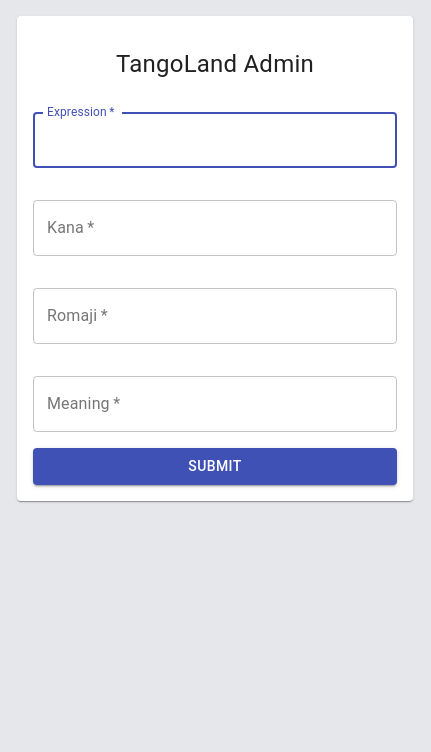
App › success after submit
Type "test5.1" into the field labelled "Expression *" at [215, 140], box [33,112,397,168]
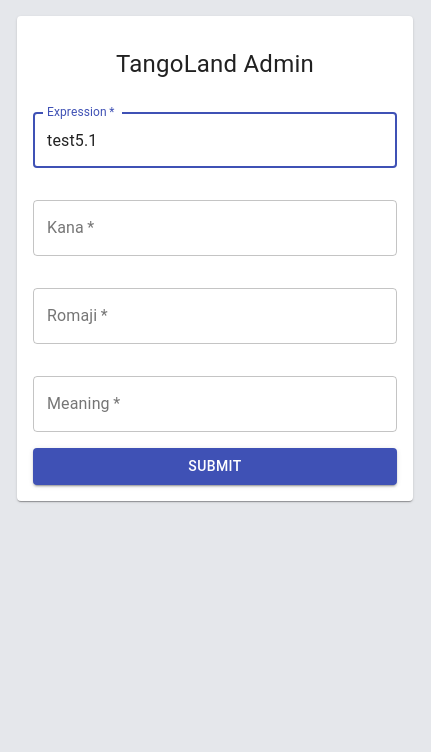
Type "test5.2" into the field labelled "Kana *" at [215, 228], box [33,200,397,256]
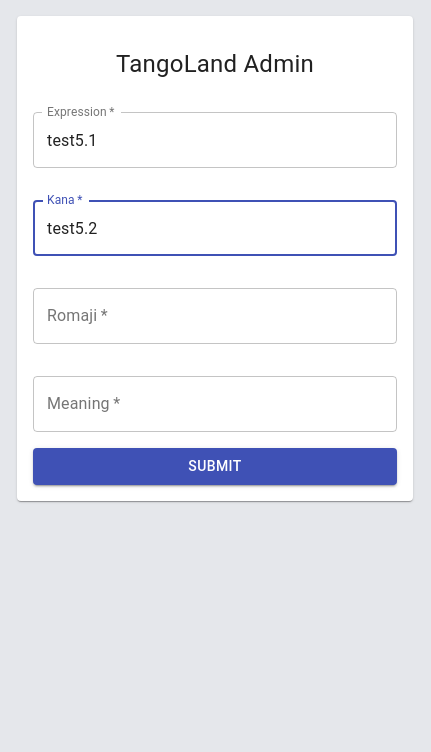
Type "test5.3" into the field labelled "Romaji *" at [215, 316], box [33,288,397,344]
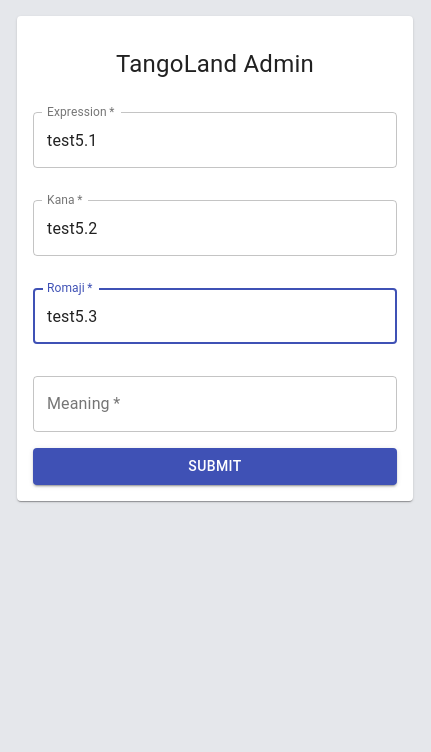
Type "test5.4" into the field labelled "Meaning *" at [215, 404], box [33,376,397,432]
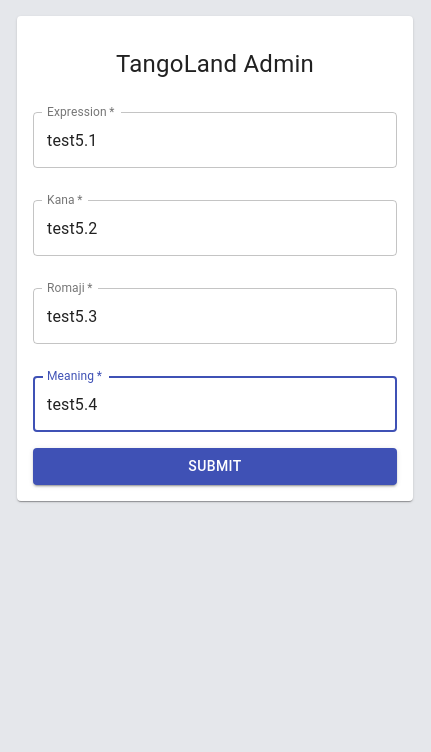
Click the button at [215, 466], box [33,448,397,484]
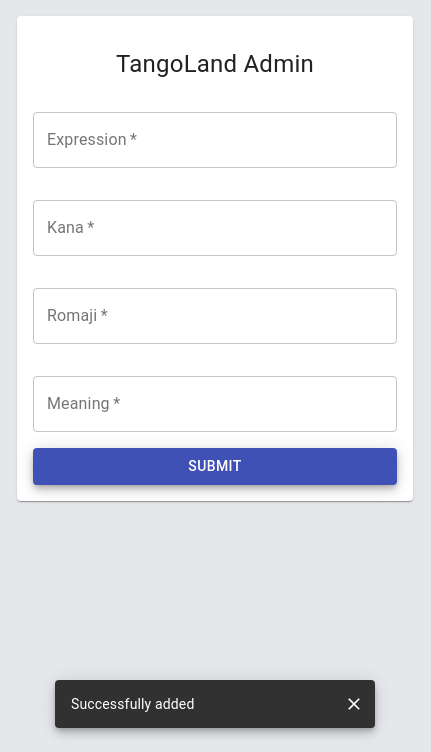
Expected: the message "Successfully added" is shown, [55,680,375,728]
Expected: the message shows "Success", [71,696,194,712]
